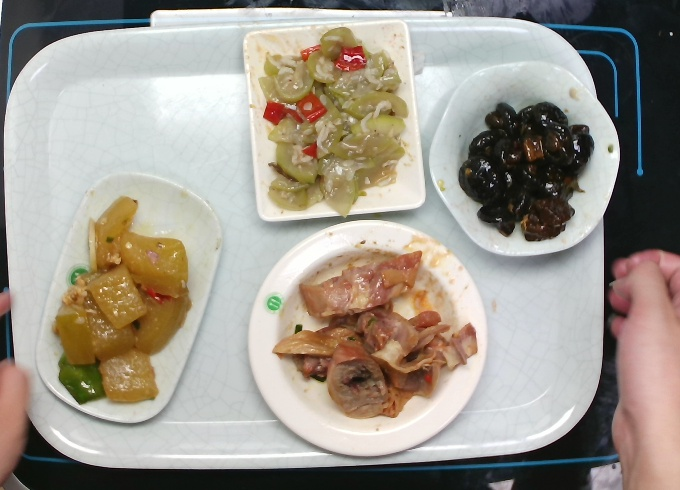WCQzf-Bai_Se_Si_Fang_Die: (241, 16, 427, 224)
WCQzf-Hua_Duo_Wan: (427, 59, 622, 258)
WCQzf-Kuan_Bian_Yuan_Die: (246, 218, 489, 458)
WCQzf-Tuo_Yuan_Pan: (33, 171, 224, 426)
